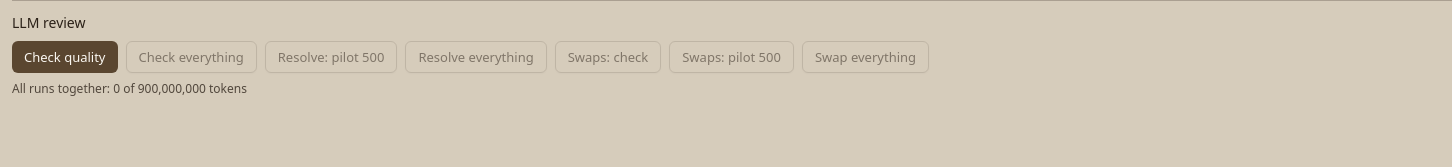
Scenario: AuthorLLMBlock › says why the server refused a start
The width and height of the screenshot is (1452, 167).
Click the button "Check quality".
click(65, 57)  # box [12,41,118,73]
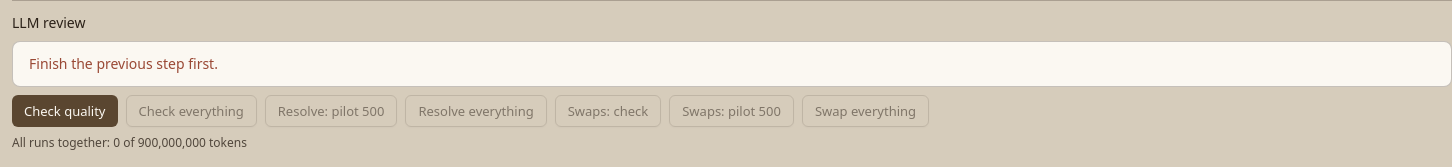
Expected: the text "Finish the previous step first." is shown, [29,54,218,73]
